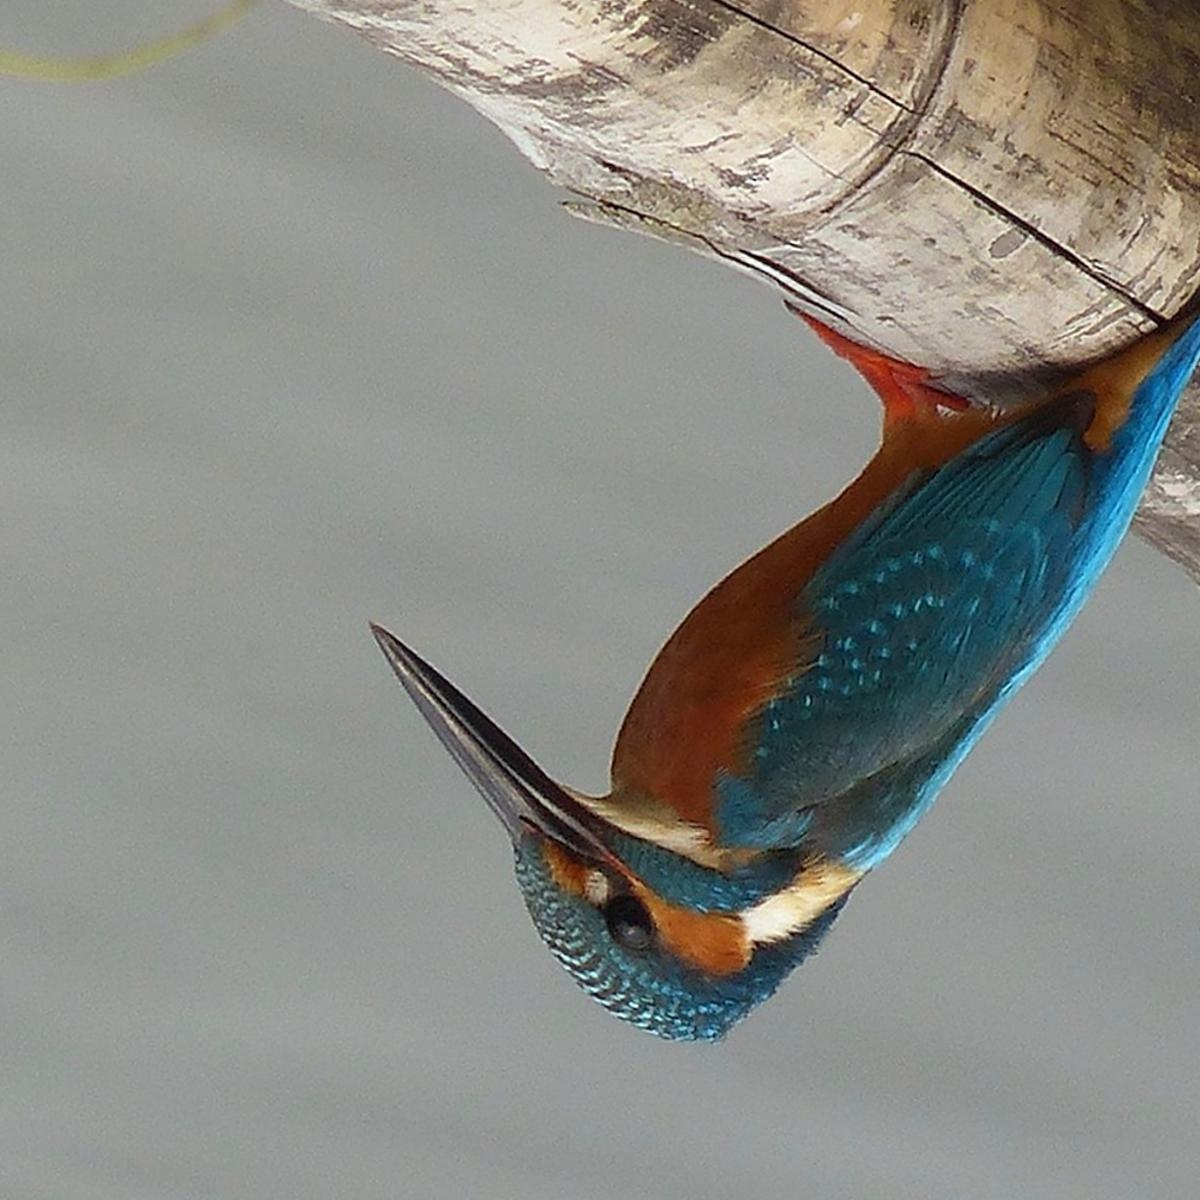kingfisher: (362, 233, 1200, 1053)
